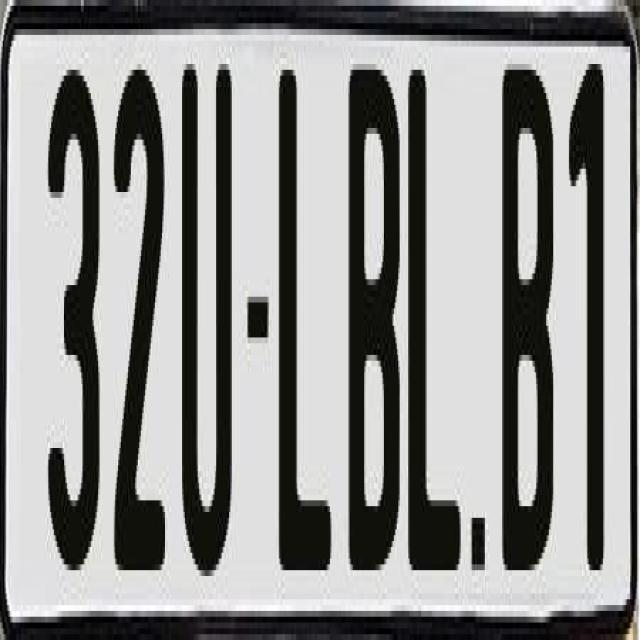1: (566, 64, 609, 605)
2: (114, 52, 170, 553)
3: (46, 64, 100, 570)
B: (348, 52, 407, 570), (499, 58, 553, 576)
L: (274, 64, 332, 588), (408, 70, 464, 582)
U: (179, 52, 232, 564)
